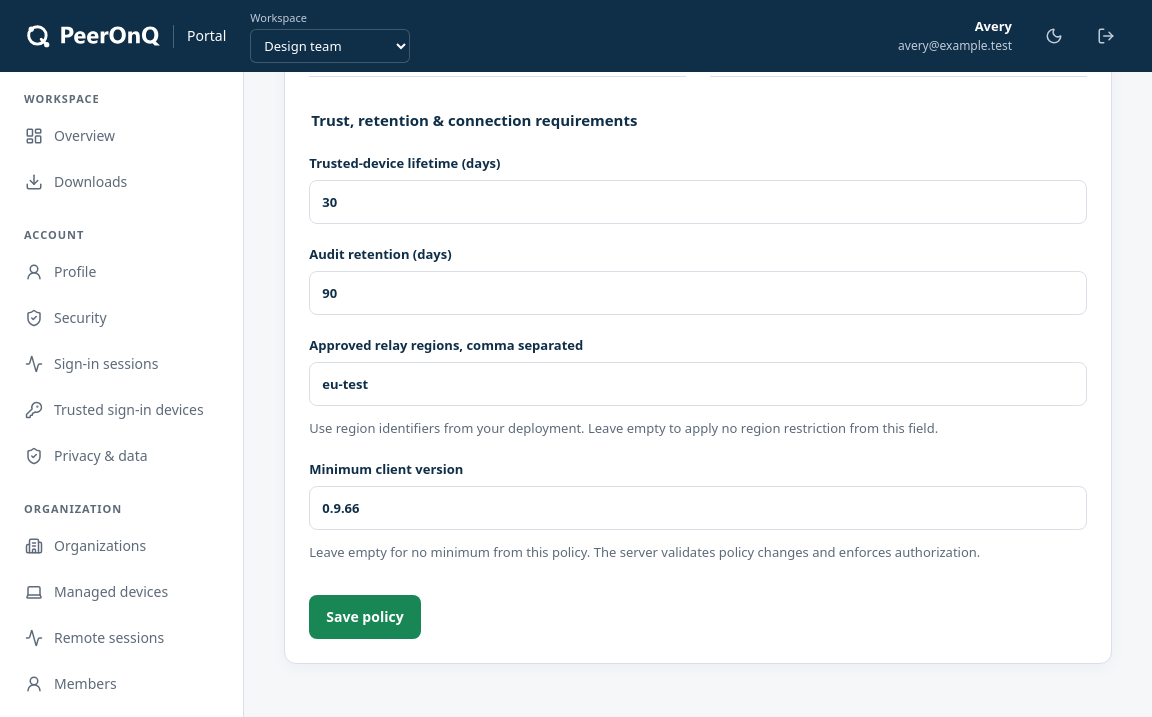
it: customer portal product UX › disables system sound on an older API without pretending the policy can enable it
The image size is (1152, 717).
(page scrolled)
Click the button "Save policy": (365, 617) x1=309 y1=595 x2=421 y2=639
(page scrolled)
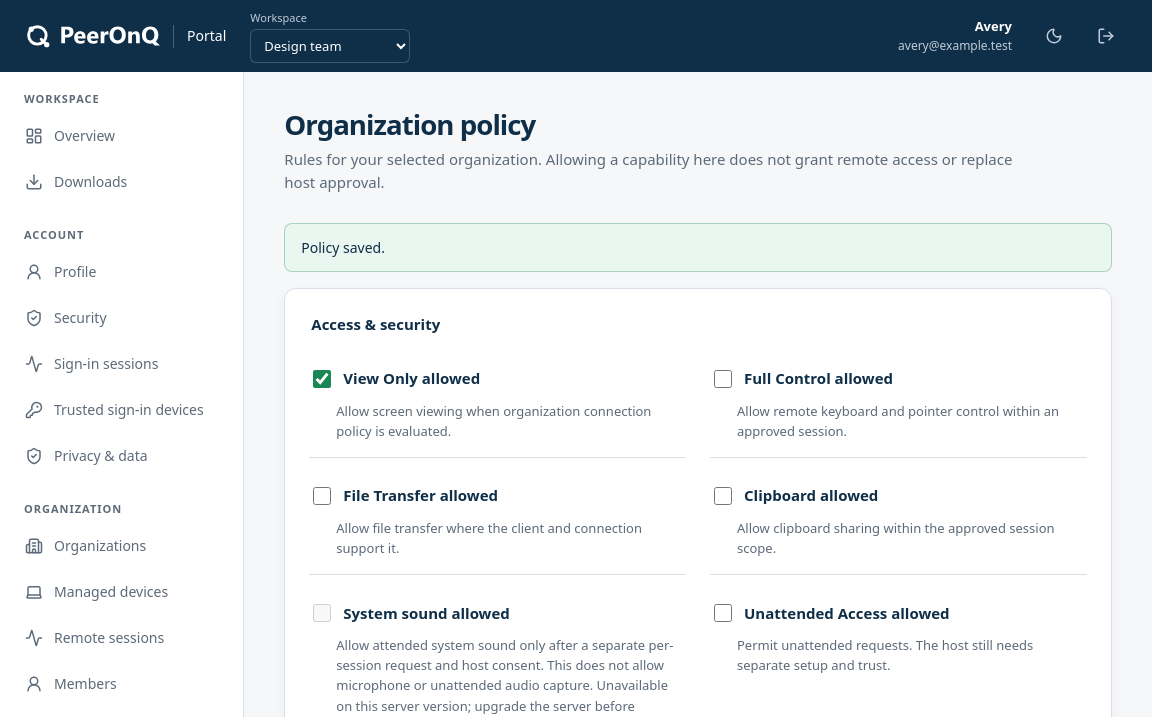
Expected: the text "Policy saved." is shown, x1=284 y1=223 x2=1112 y2=272
